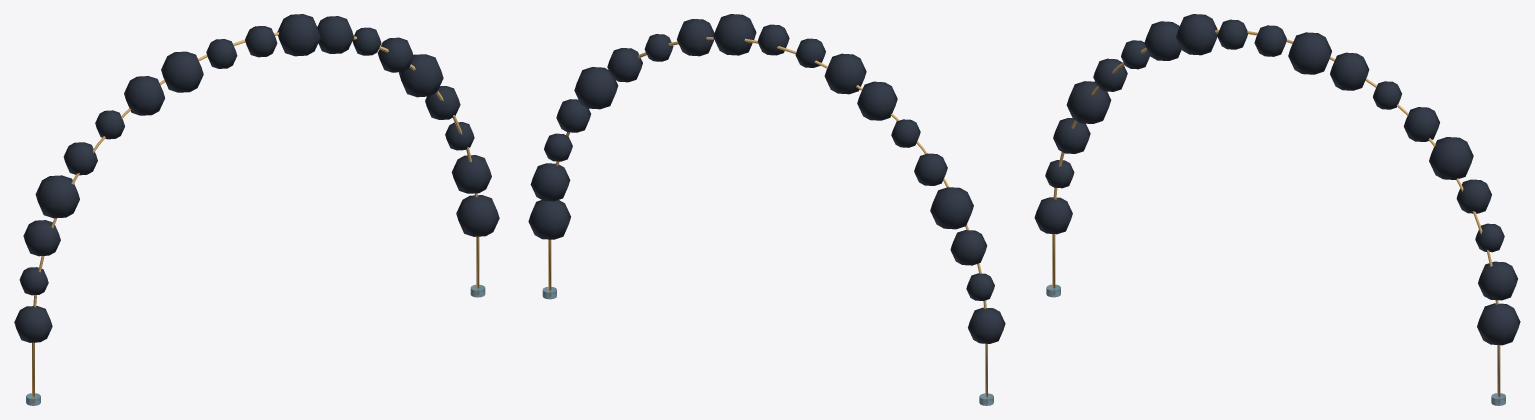
File: threshold-bubble-arch-b-lod1.glb
The picture shows the model from 3 angles, left to right: view 1: azimuth 30°, elevation 25°; view 2: azimuth 150°, elevation 25°; view 3: azimuth 330°, elevation 25°; orthographic projection.
Visible parts, largest first — view 1: frame; view 2: frame; view 3: frame.
Boxes of the visible parts, x1,y1,x2,y2 form: frame: (14,14,499,405); frame: (528,14,1005,405); frame: (1034,14,1520,405).
Size of the model in its own units: 17.97 by 11.71 by 2.14.
